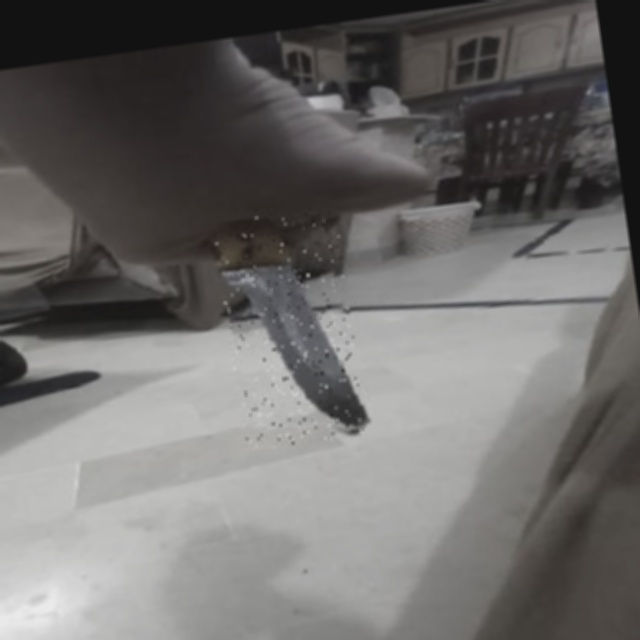Sharp-Object: (212, 204, 367, 452)
